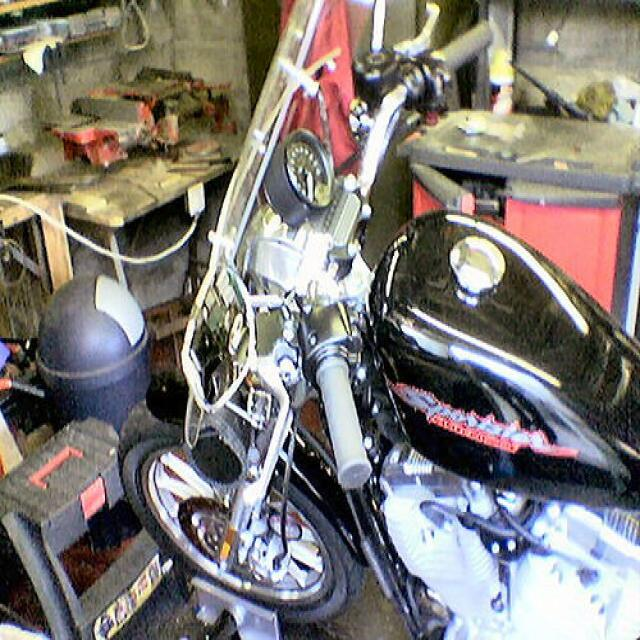motorbike: (115, 1, 640, 639)
